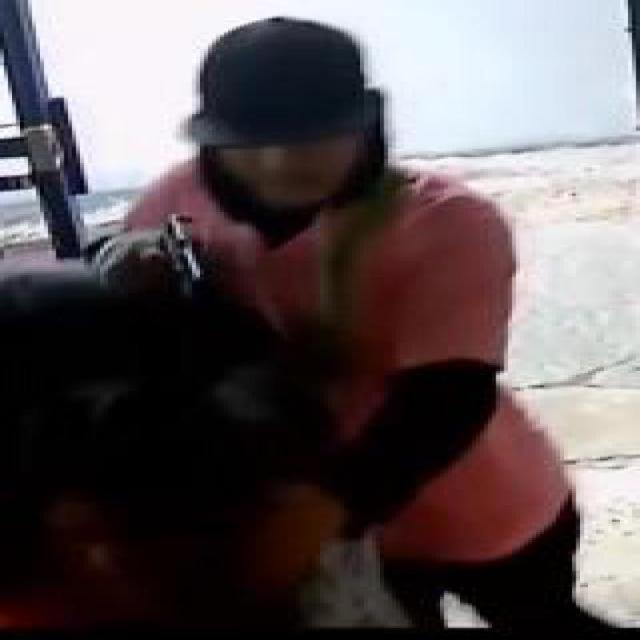pistol: (132, 205, 220, 298)
